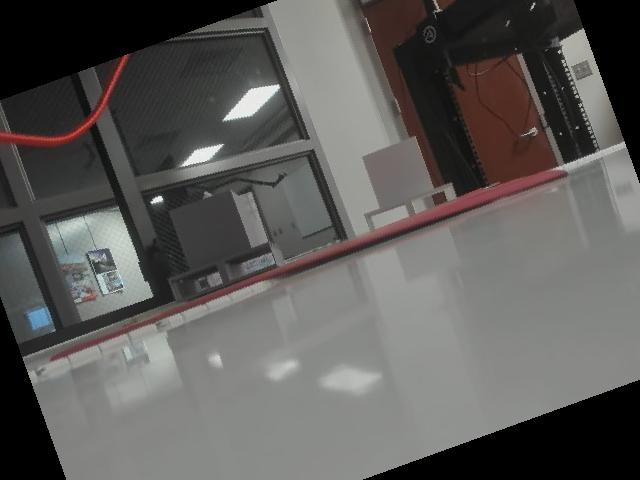grey pallet: (139, 190, 304, 309)
white pallet: (341, 127, 479, 235)
